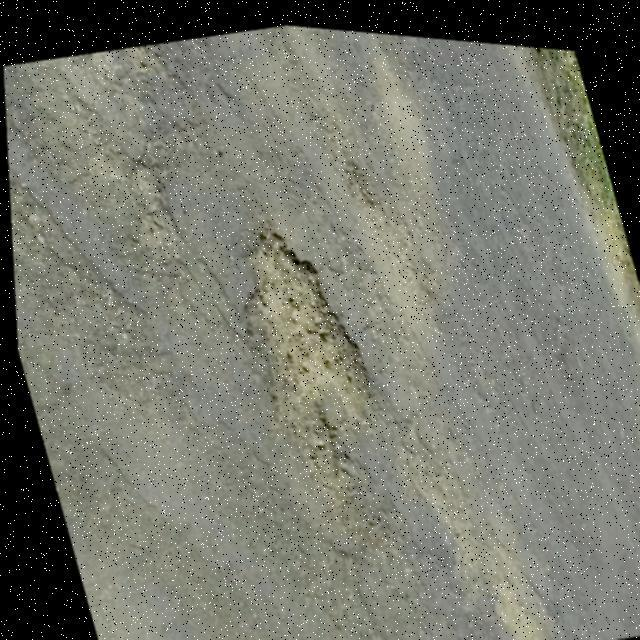pothole: (214, 205, 398, 495)
